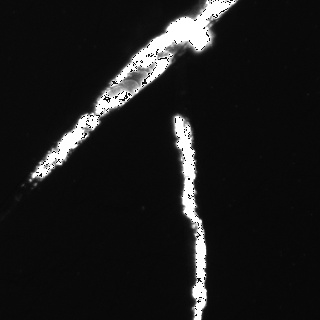embryo: (106, 79, 141, 103), (137, 51, 171, 74), (118, 70, 149, 92)
